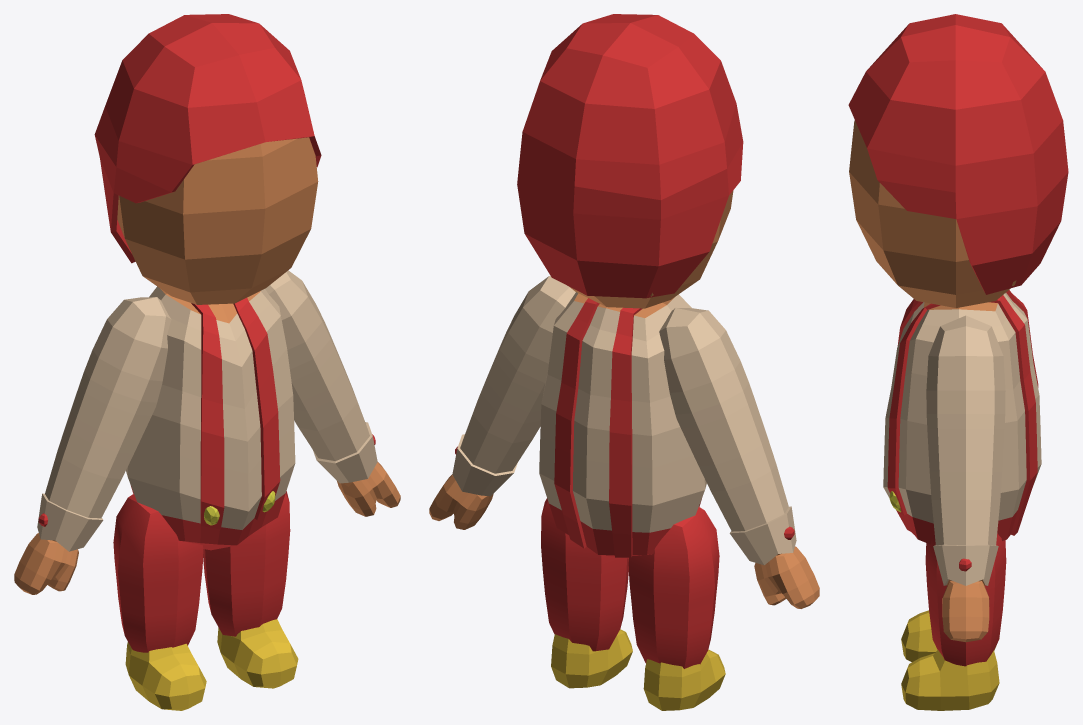
File: Peach boy.fbx
3 renders of one model, left to right at view 1: azimuth 30°, elevation 25°; view 2: azimuth 150°, elevation 25°; view 3: azimuth 270°, elevation 25°, orthographic.
Visible parts, largest first — view 1: Cube.012, Cube.010, Cube.008; view 2: Cube.012, Cube.010, Cube.008; view 3: Cube.012, Cube.010, Cube.008.
Boxes of the visible parts, <box> form: Cube.012: <box>14,137,400,710</box>; Cube.010: <box>94,14,321,263</box>; Cube.008: <box>37,422,377,551</box>; Cube.012: <box>429,190,819,710</box>; Cube.010: <box>517,14,743,298</box>; Cube.008: <box>452,434,796,565</box>; Cube.012: <box>849,120,1041,710</box>; Cube.010: <box>848,14,1068,294</box>; Cube.008: <box>933,544,998,585</box>.
Size of the model in its own units: 176 by 297 by 89.4.
